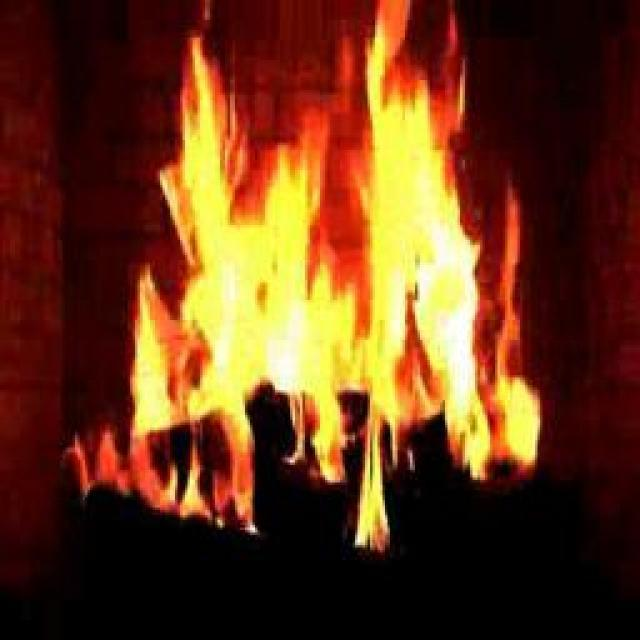Fire: (152, 56, 526, 464)
